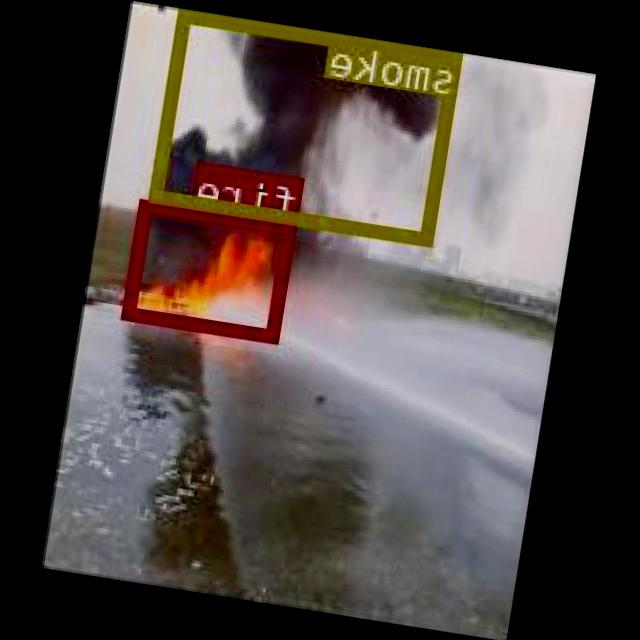fire: (125, 199, 298, 340)
smoke: (154, 9, 466, 244)
